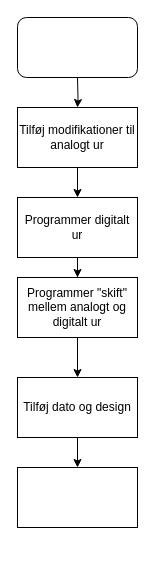
This 155x563 diagram has some shape labels left out. Each missing label, with the box of its shape:
Analyser og forstå "Clock" fra Processing: (16, 16, 138, 78)
Tilføj alarm: (16, 466, 138, 528)
